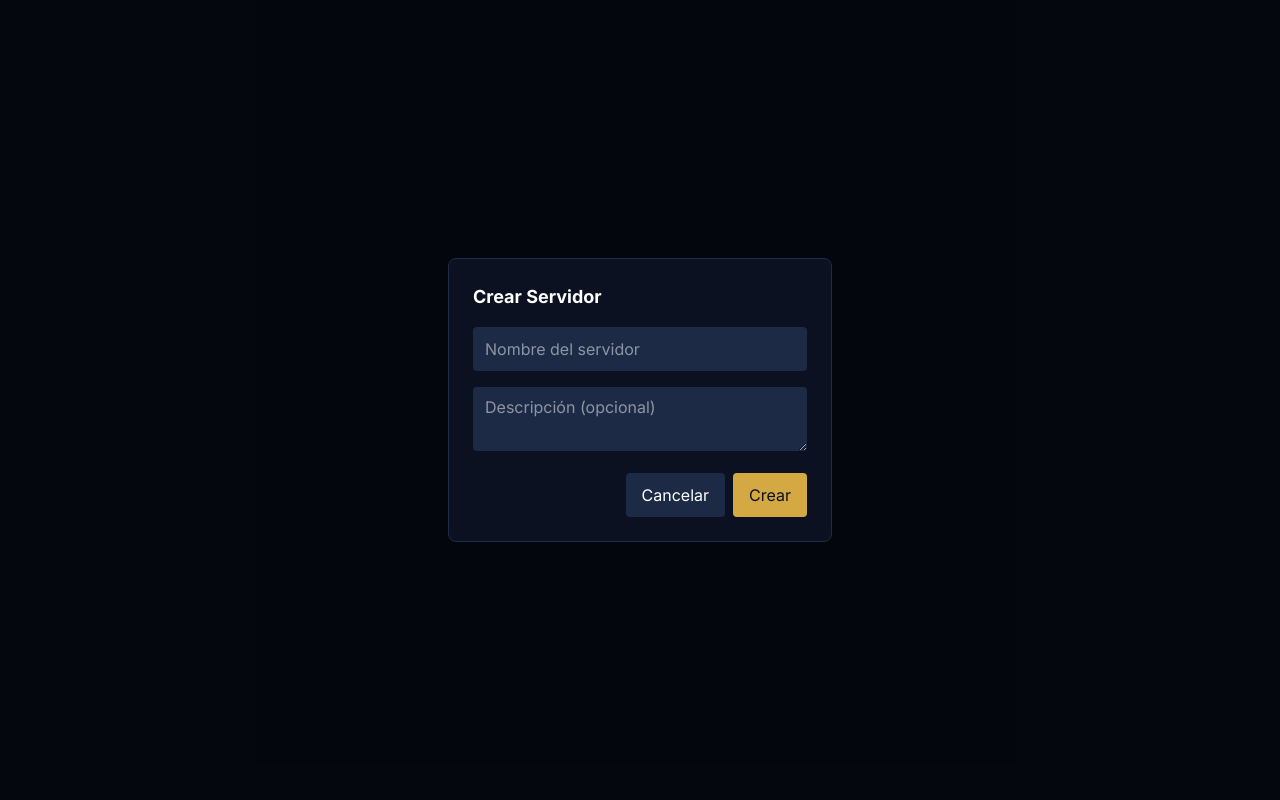
Scenario: CreateServerModal › displays error when backendFetch response is not ok
The width and height of the screenshot is (1280, 800).
Type "Duplicate" into the field with placeholder "Nombre del servidor" at (640, 349), box [473,327,807,371]
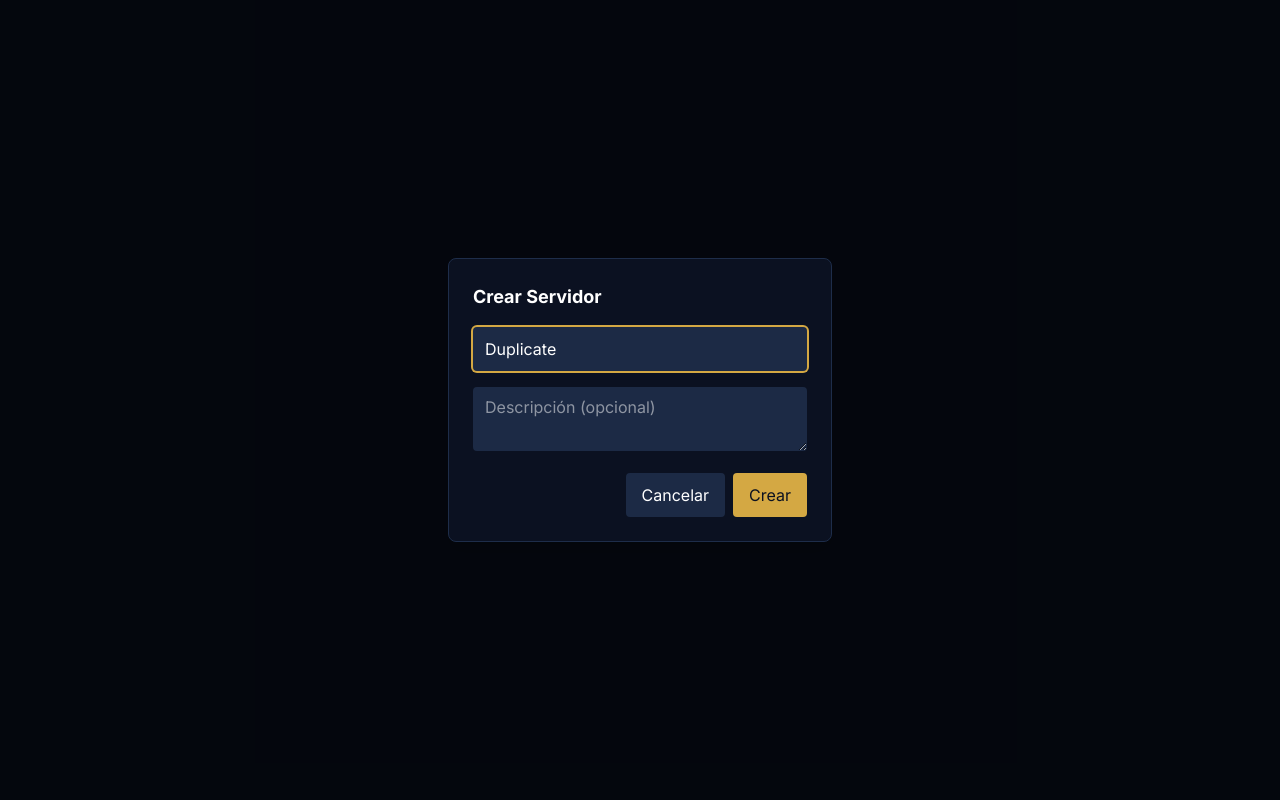
Click the button "Crear" at (770, 495), box [733,473,807,517]
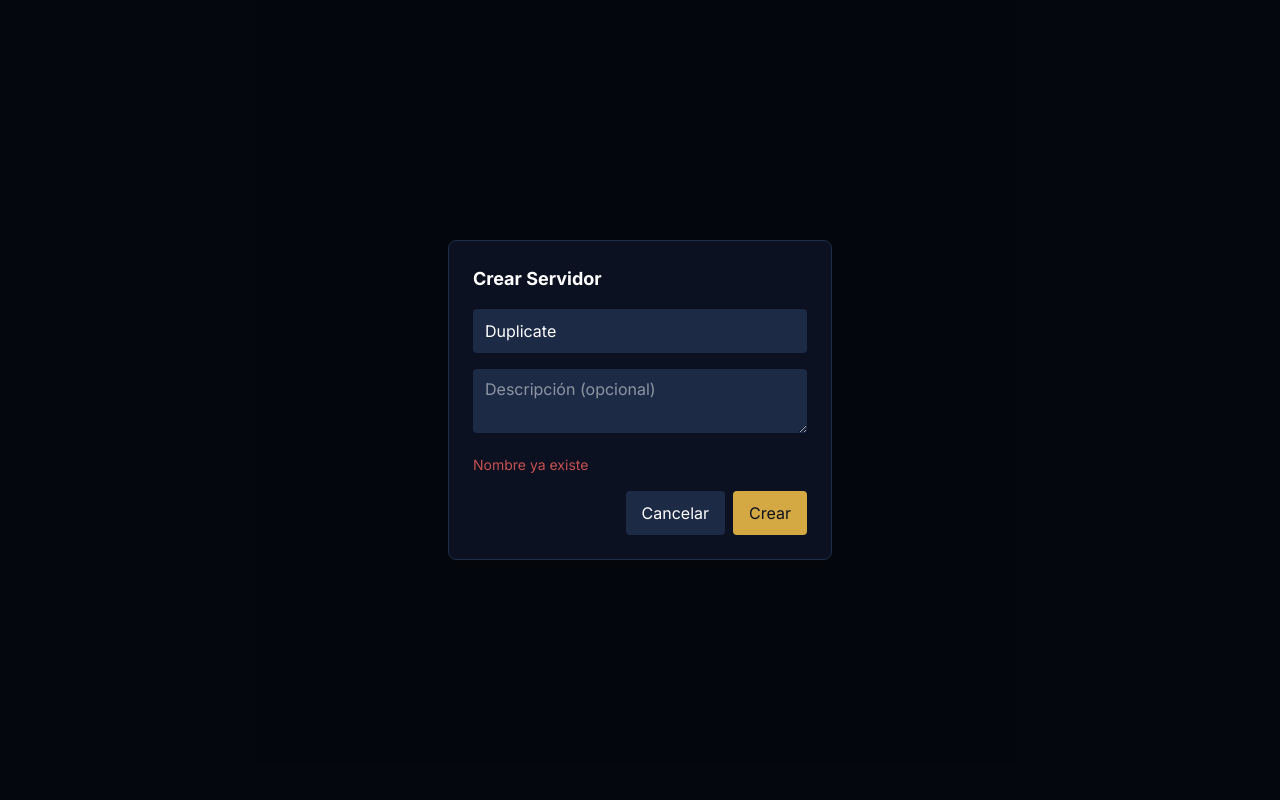
Now the text "Nombre ya existe" is shown, box [473,456,588,473]
